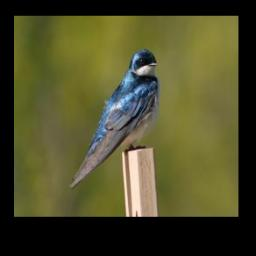Swallow: (68, 45, 161, 192)
